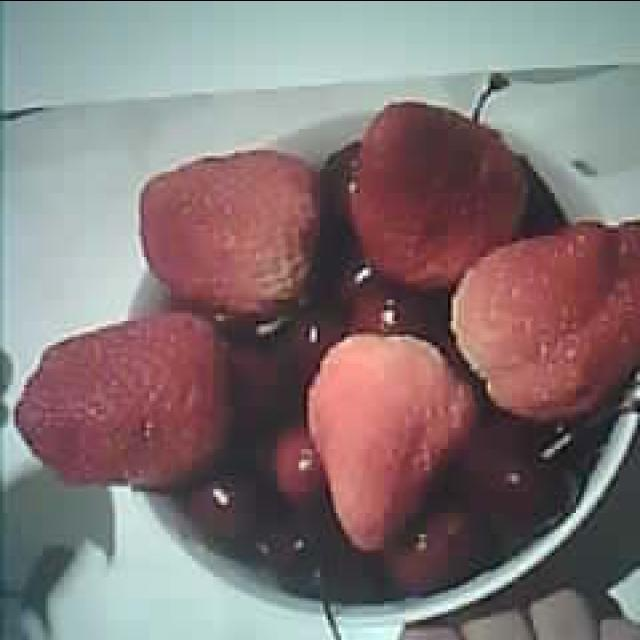ripe: (15, 311, 226, 485), (310, 331, 474, 548), (456, 218, 640, 408), (352, 98, 524, 282), (136, 149, 324, 310)
